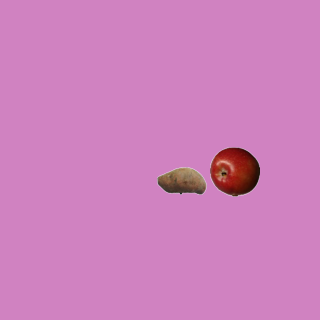Apple Braeburn: (209, 146, 259, 196)
Potato Sweet: (156, 155, 206, 205)
